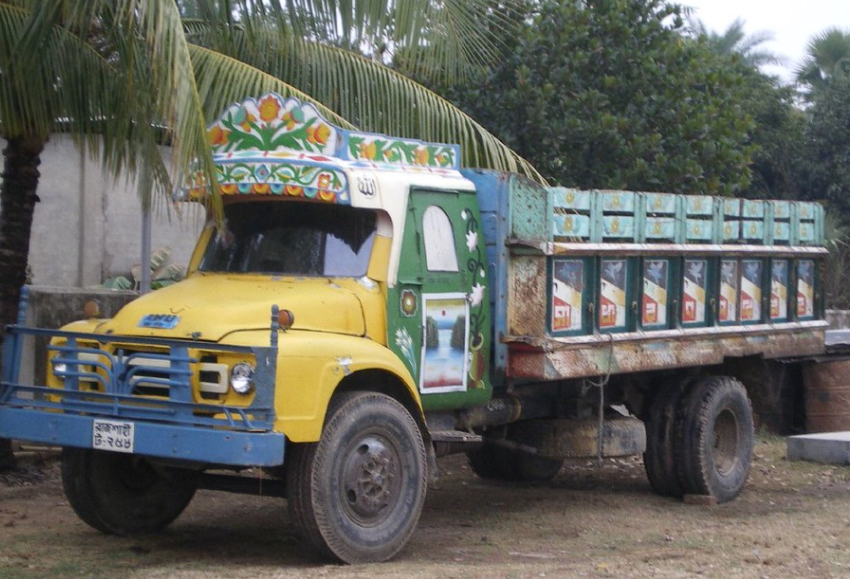Truck: (5, 88, 827, 551)
